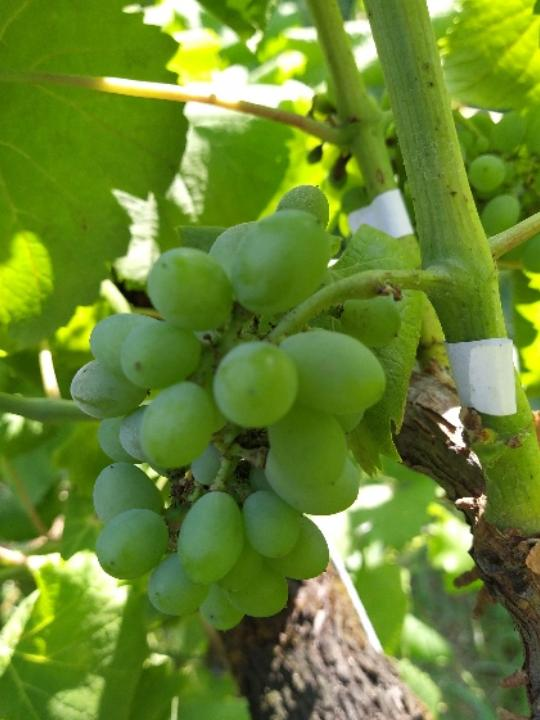grape: (66, 181, 404, 640)
